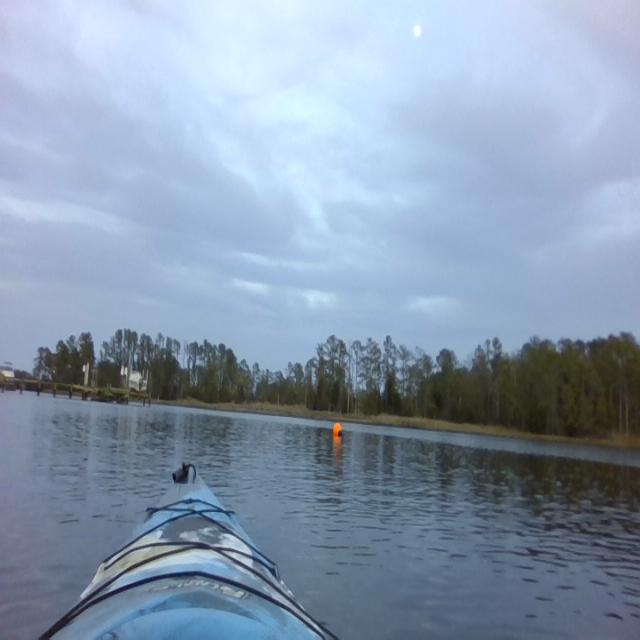Buoy: (330, 415, 346, 442)
